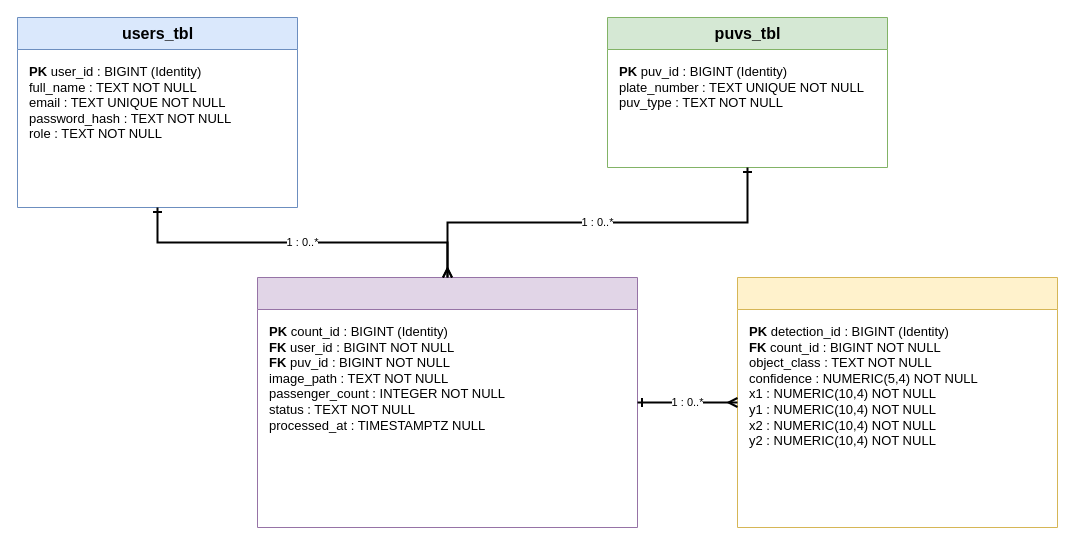
This 1075x545 diagram has some shape labels left out. Each missing label, with the box of its shape:
counting_records_tbl: (256, 276, 638, 528)
detection_tbl: (736, 276, 1058, 528)
